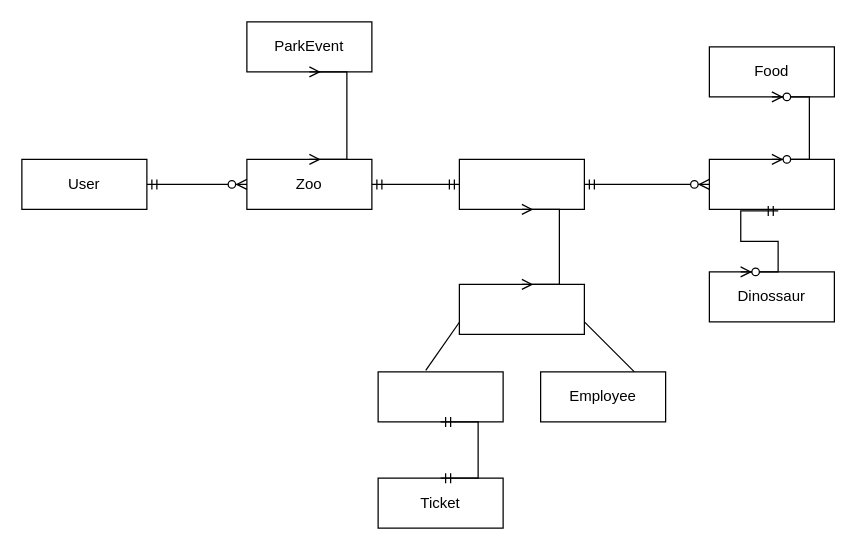
This 856x550 diagram has some shape labels left out. The shapes that lost their labels are listed below. From the top down, each one's centre as x and y in pixels, then its label:
pixel 521 183: Inventory
pixel 771 183: Enclosure
pixel 521 308: Human
pixel 440 396: Visitor
